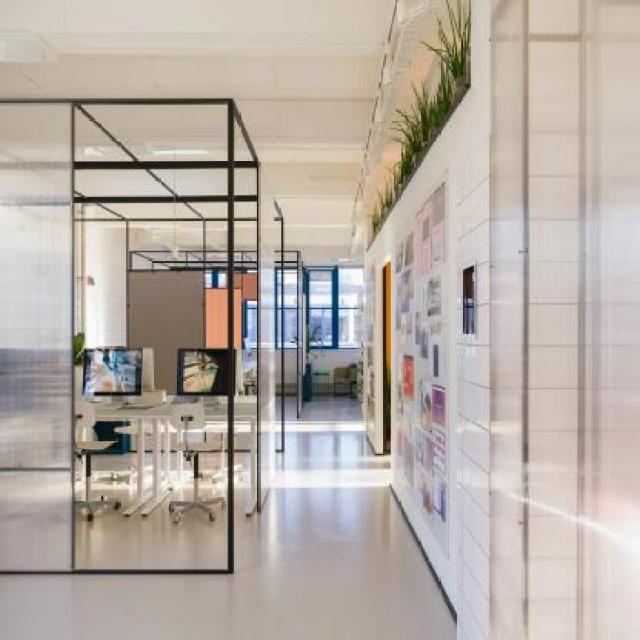floor: (2, 393, 461, 639), (79, 456, 230, 573), (0, 465, 74, 572), (284, 391, 299, 432)
